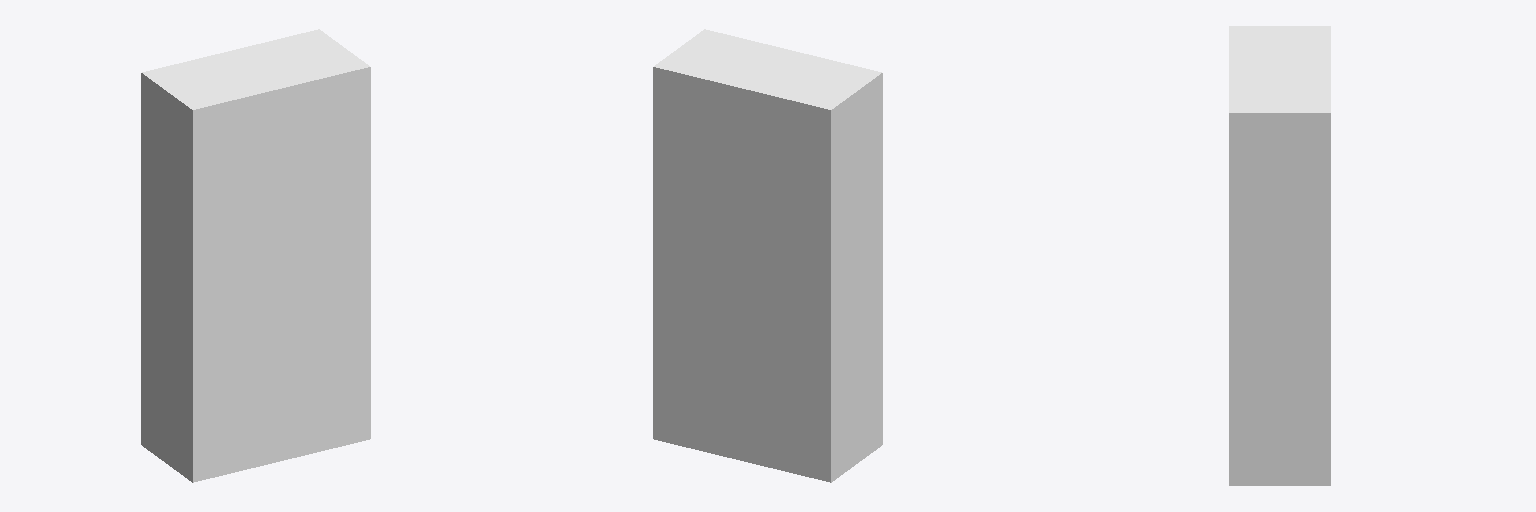
Rendered from YellowHouseParts-76.obj.
3 views of the same model, side by side, from view 1: azimuth 30°, elevation 25°; view 2: azimuth 150°, elevation 25°; view 3: azimuth 270°, elevation 25° (orthographic).
Parts seen in each view (by area): view 1: object 1; view 2: object 1; view 3: object 1.
Boxes of the visible parts, box(x1,y1,x2,y2) form: object 1: box(141, 29, 370, 482); object 1: box(653, 29, 882, 482); object 1: box(1229, 26, 1330, 485).
Size of the model in its own units: 0.2 by 0.4 by 0.1.